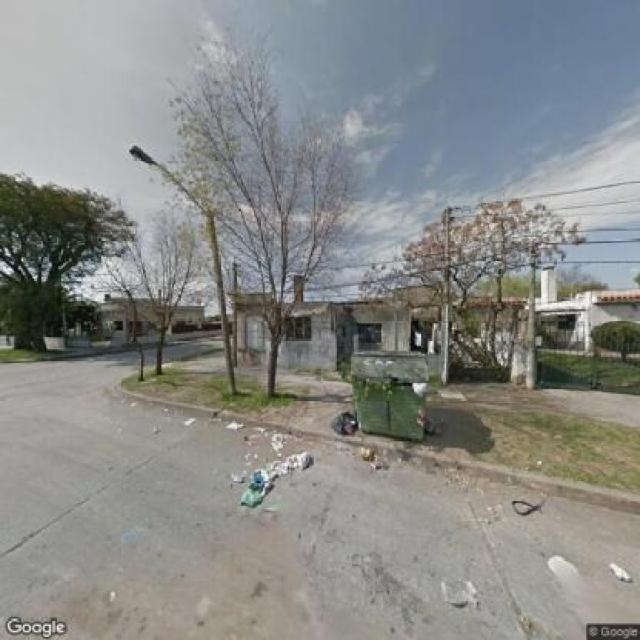garbage: (353, 355, 433, 440), (239, 448, 314, 510), (221, 417, 296, 444), (505, 492, 546, 520), (329, 406, 362, 438)
